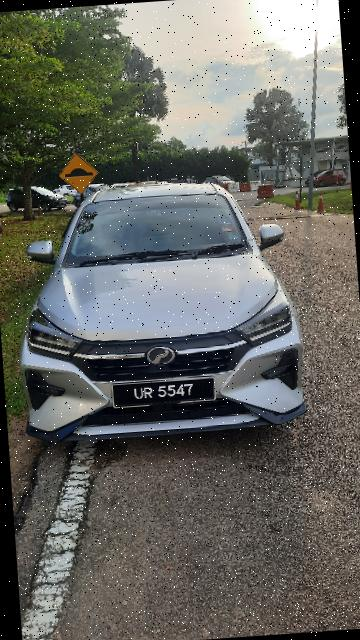License_Plate: (114, 377, 217, 408)
car: (7, 164, 313, 464), (7, 185, 71, 215), (73, 183, 114, 211), (304, 169, 349, 189), (205, 176, 236, 189), (52, 185, 79, 198)
